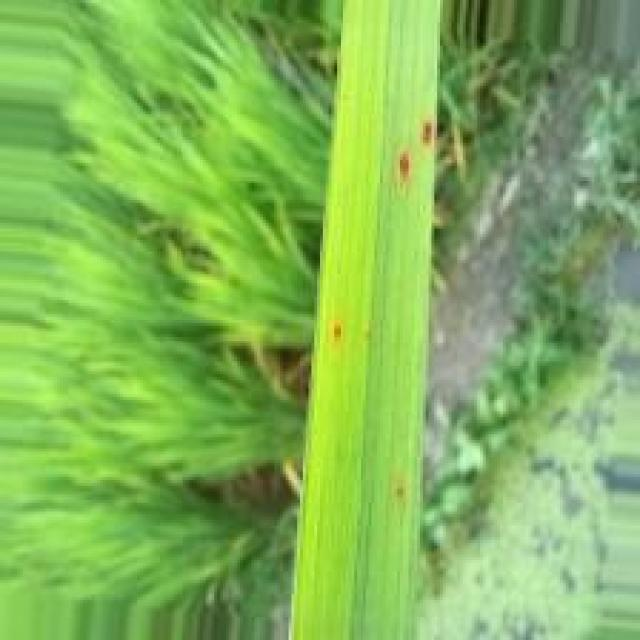Brown_Spot: (396, 146, 414, 183), (418, 118, 437, 150), (330, 313, 346, 347)
